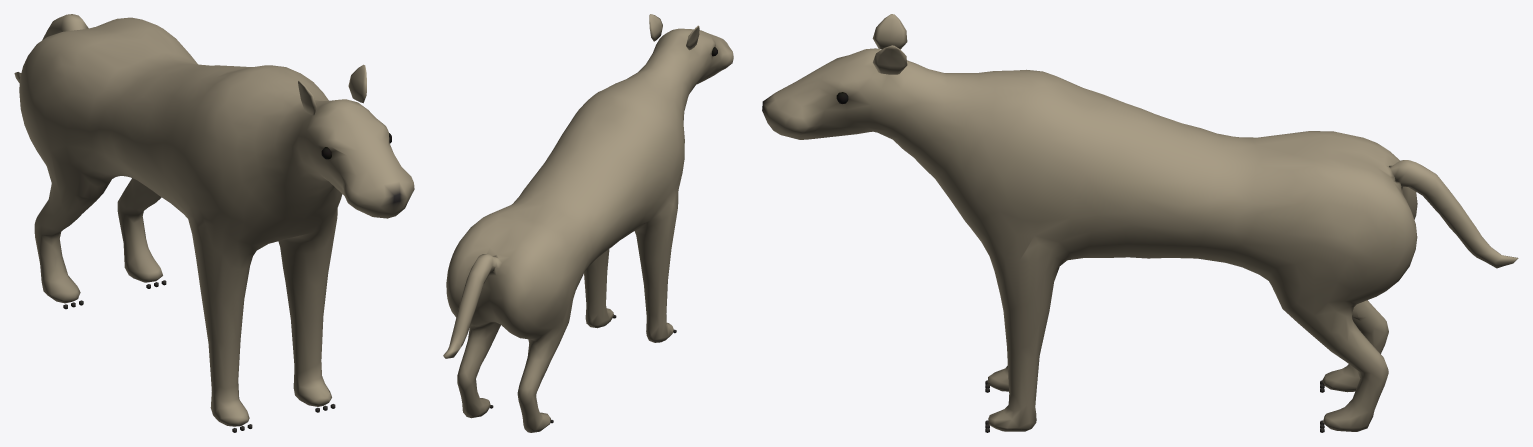
File: hyaene.glb
3 views of the same model, side by side, from view 1: azimuth 30°, elevation 25°; view 2: azimuth 150°, elevation 25°; view 3: azimuth 270°, elevation 25° (orthographic). The views are drawn at different scales.
Visible parts, largest first — view 1: lack; view 2: lack; view 3: lack.
Boxes of the visible parts, x1,y1,x2,y2 form: lack: [14, 14, 414, 432]; lack: [443, 14, 733, 432]; lack: [762, 14, 1518, 432].
Bounding box in the file's own units: 0.4248 × 1.06 × 1.91.
